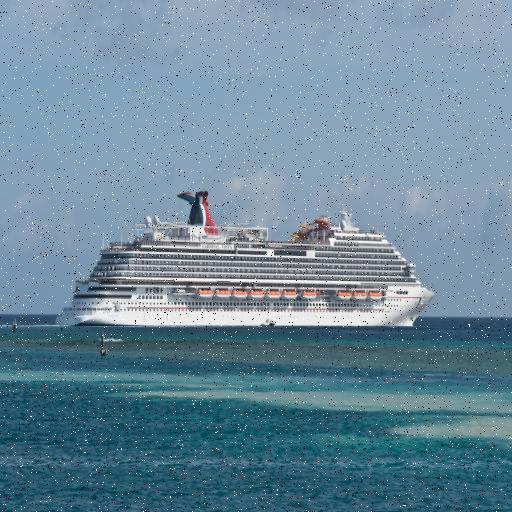cruises: (55, 177, 437, 333)
